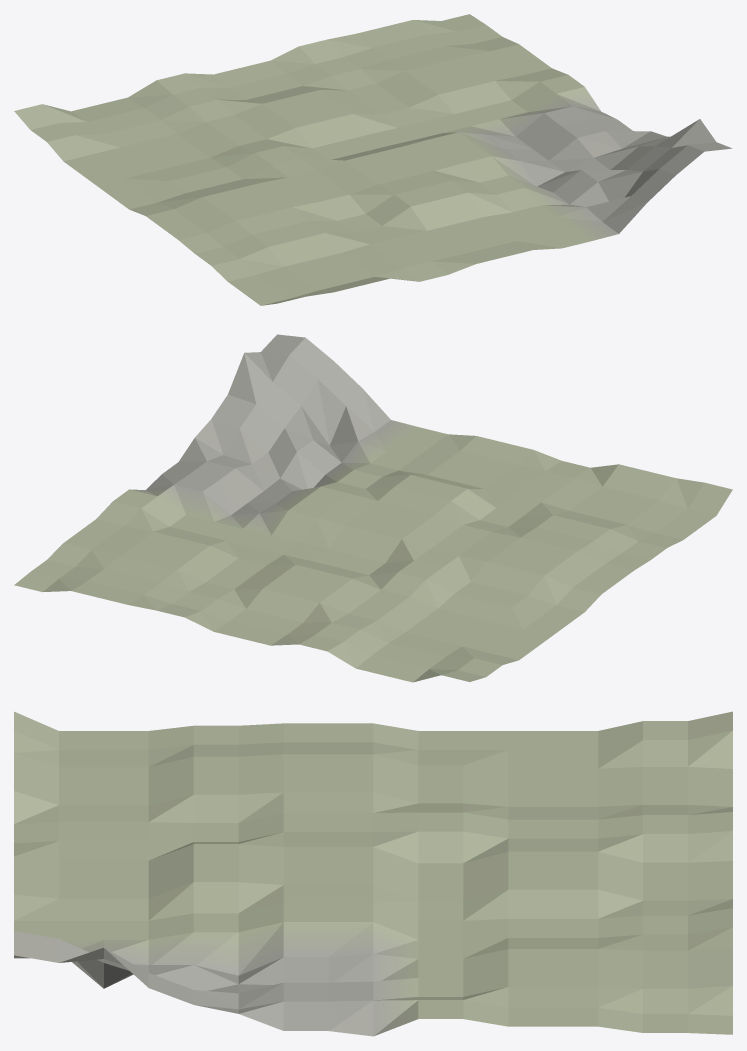
3 renders of one model, top to bottom at view 1: azimuth 30°, elevation 25°; view 2: azimuth 150°, elevation 25°; view 3: azimuth 270°, elevation 25°, orthographic. The views are drawn at different scales.
Bounding box in the file's own units: 32 × 5.12 × 32.
